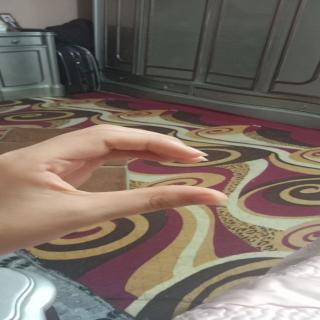JEEM: (0, 122, 211, 236)
